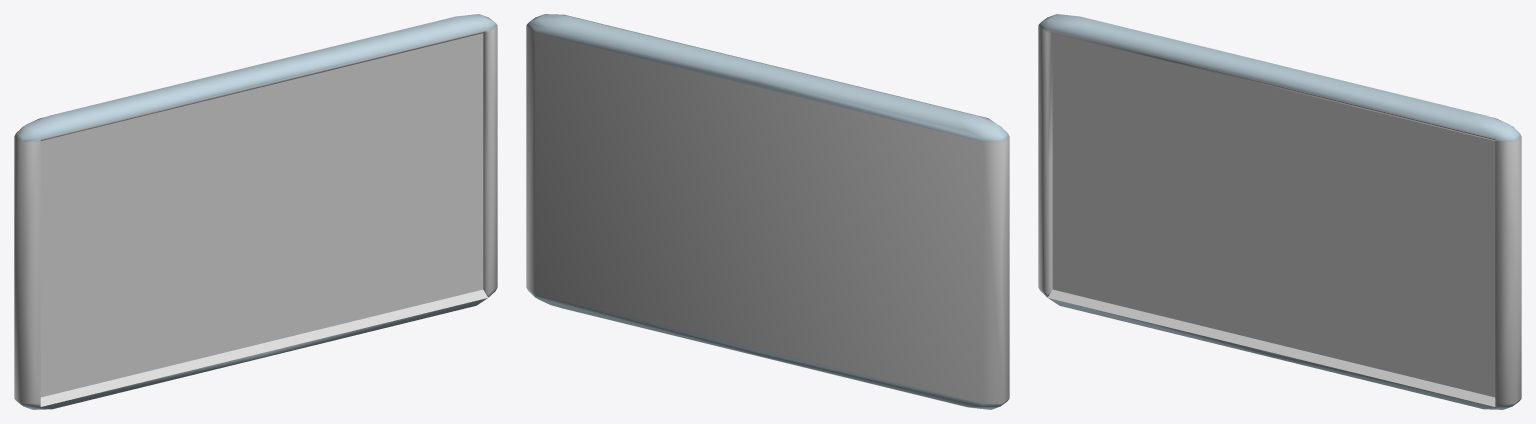
3 views of the same model, side by side, from view 1: azimuth 30°, elevation 25°; view 2: azimuth 150°, elevation 25°; view 3: azimuth 330°, elevation 25° (orthographic).
Parts seen in each view (by area): view 1: Cube; view 2: Cube; view 3: Cube.
Part boxes in pixels (left/top/right/bottom): Cube: left=14, top=14, right=497, bottom=409; Cube: left=526, top=14, right=1009, bottom=409; Cube: left=1038, top=14, right=1521, bottom=409.
Size of the model in its own units: 4.03 by 2.32 by 0.2501.
